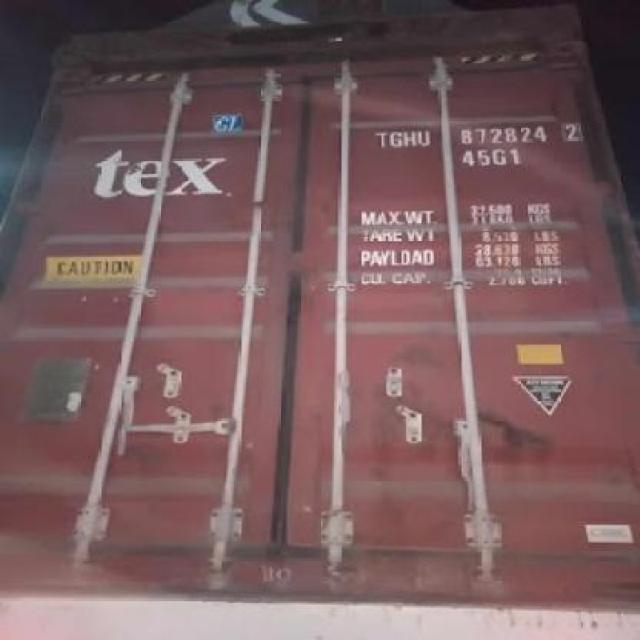ISO: (460, 149, 522, 167)
container_number: (381, 122, 577, 146)
